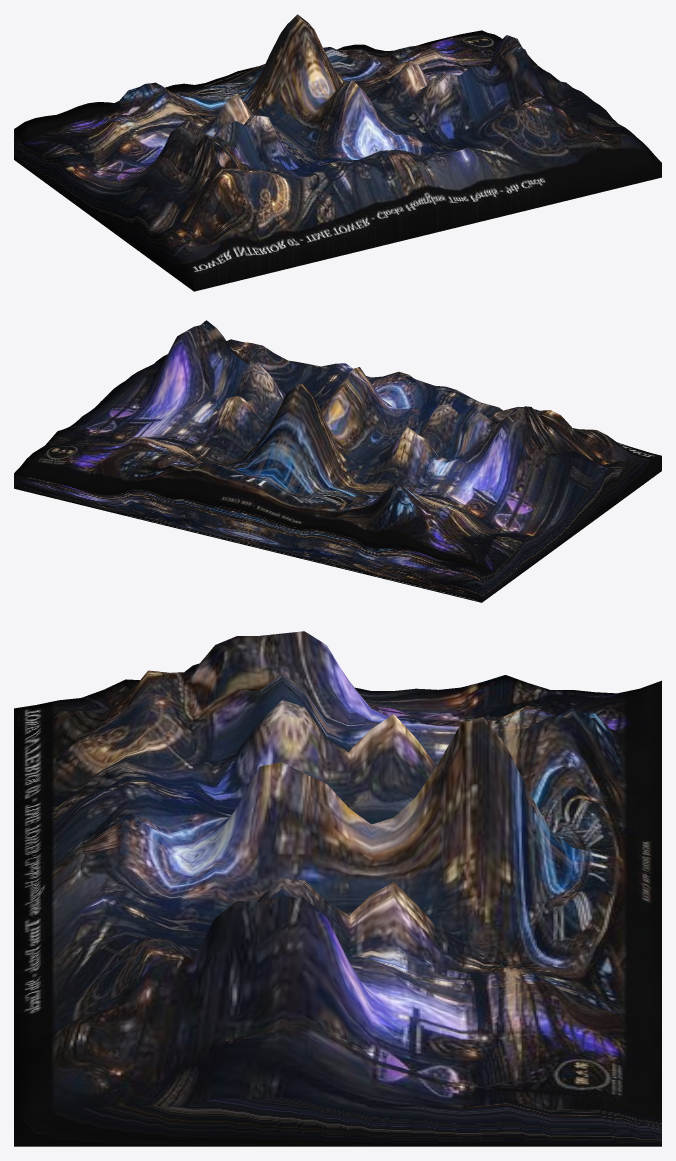
File: TOWER_INT_07_Time_Tower.glb
The picture shows the model from 3 angles, top to bottom: view 1: azimuth 30°, elevation 25°; view 2: azimuth 150°, elevation 25°; view 3: azimuth 270°, elevation 25°; orthographic projection. The views are drawn at different scales.
Parts seen in each view (by area): view 1: TOWER_INT_07_Time_Tower; view 2: TOWER_INT_07_Time_Tower; view 3: TOWER_INT_07_Time_Tower.
Part boxes in pixels (x1,y1,x2,y2): TOWER_INT_07_Time_Tower: (14, 14, 661, 291); TOWER_INT_07_Time_Tower: (14, 320, 661, 602); TOWER_INT_07_Time_Tower: (14, 631, 661, 1146).
Size of the model in its own units: 2 by 0.51 by 1.33.
Materials: 1 (1 with a texture image).
